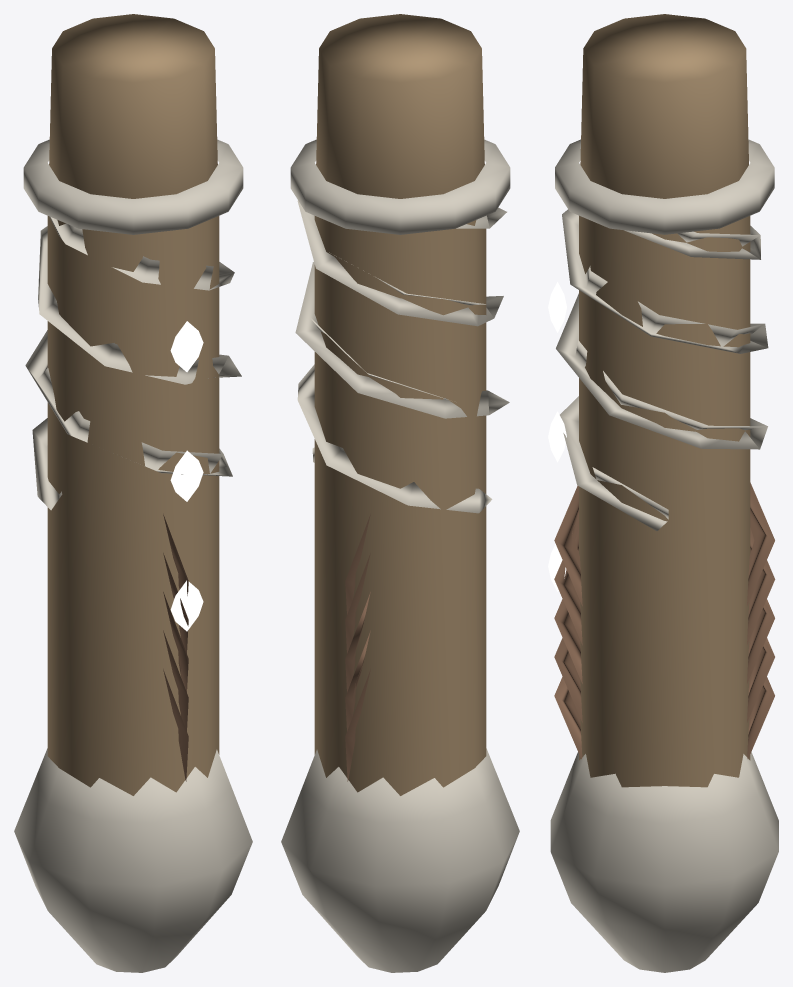
The model's file is handle_mythic.glb.
3 renders of one model, left to right at view 1: azimuth 30°, elevation 25°; view 2: azimuth 150°, elevation 25°; view 3: azimuth 270°, elevation 25°, orthographic.
Parts seen in each view (by area): view 1: handle_mythic; view 2: handle_mythic; view 3: handle_mythic.
Part boxes in pixels (x1,y1,x2,y2): handle_mythic: (14,14,252,972); handle_mythic: (281,14,519,972); handle_mythic: (548,14,778,972).
Bounding box in the file's own units: 0.1008 × 0.42 × 0.0969.
